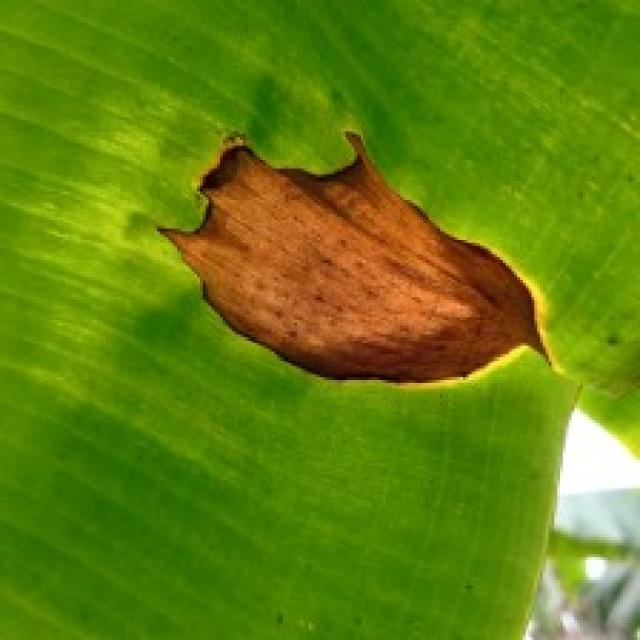Bacterial_spot: (125, 108, 567, 380)
